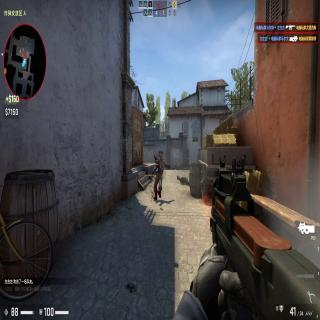T-Head: (177, 174, 180, 180)
